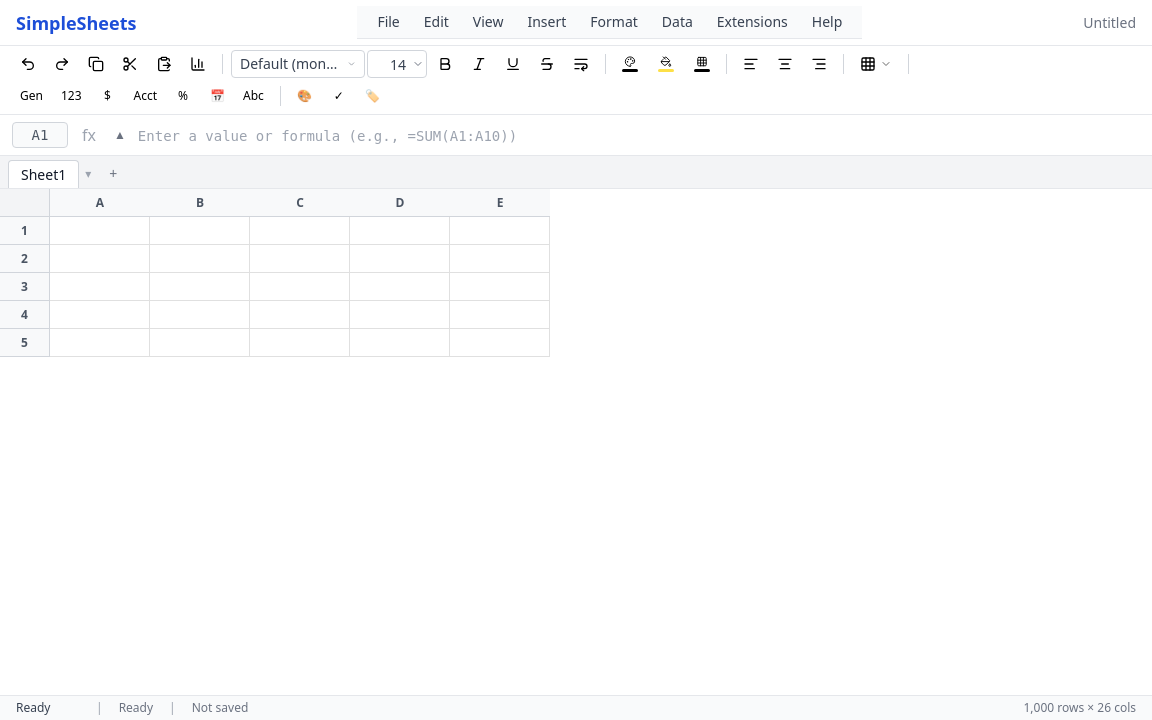
Test: App - Sheet Operations › renames a sheet via double-click
The image size is (1152, 720).
// Double-click to start renaming
Double-click the button "Sheet1": point(44, 174) [8,160,79,189]
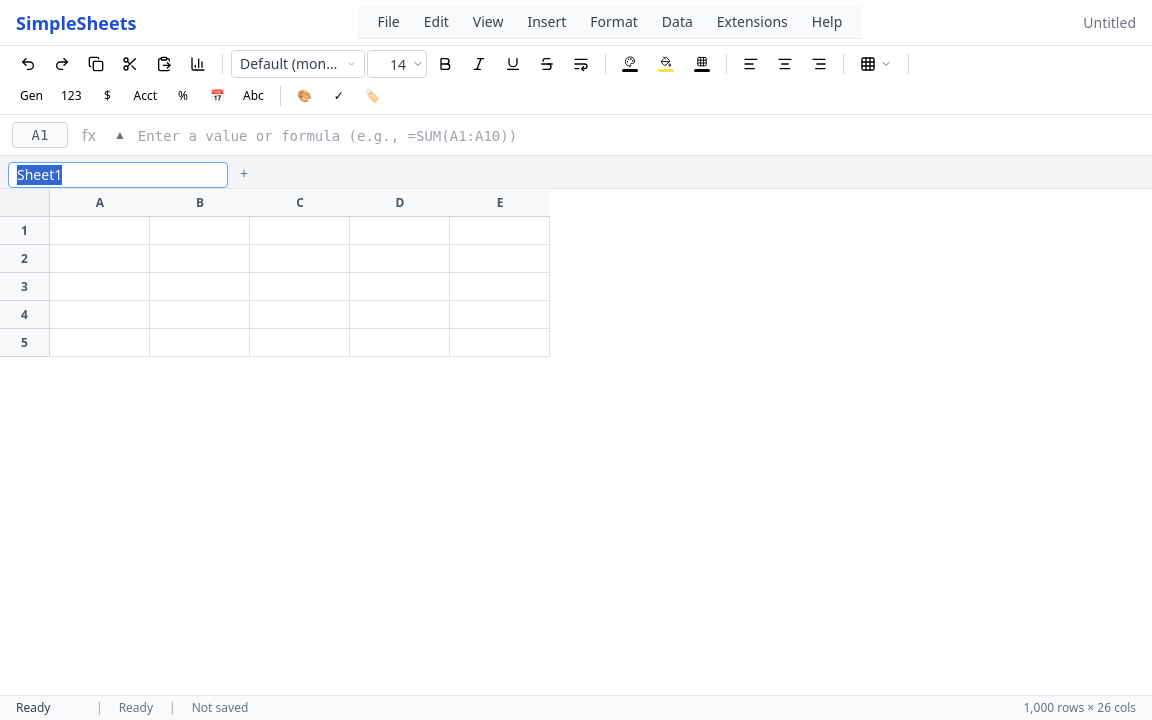
Expected: the field showing "Sheet1" holds "Sheet1", [8,162,228,188]
